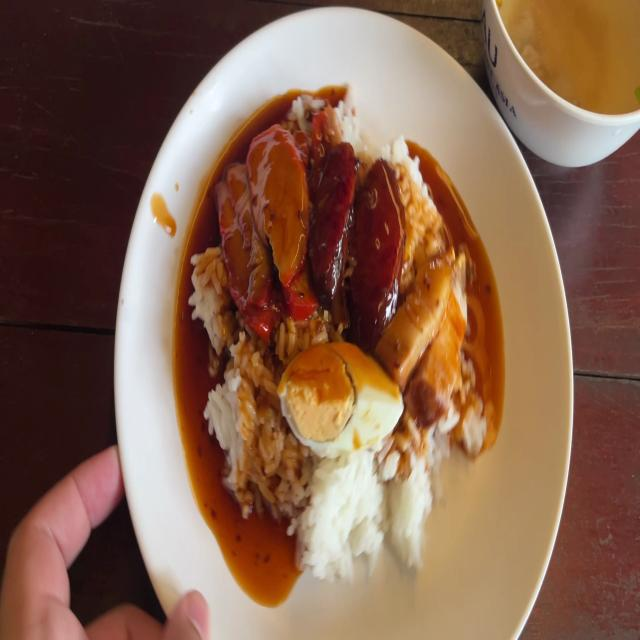01boiled_egg: (273, 347, 400, 446)
01chainese_sausage: (314, 140, 397, 323)
01crispy_pork: (388, 251, 464, 407)
01red_pork: (218, 129, 305, 307)
01red_pork_and_crispy_pork: (187, 82, 481, 574)
01rice: (270, 455, 434, 566), (210, 342, 266, 495), (187, 268, 225, 330)
